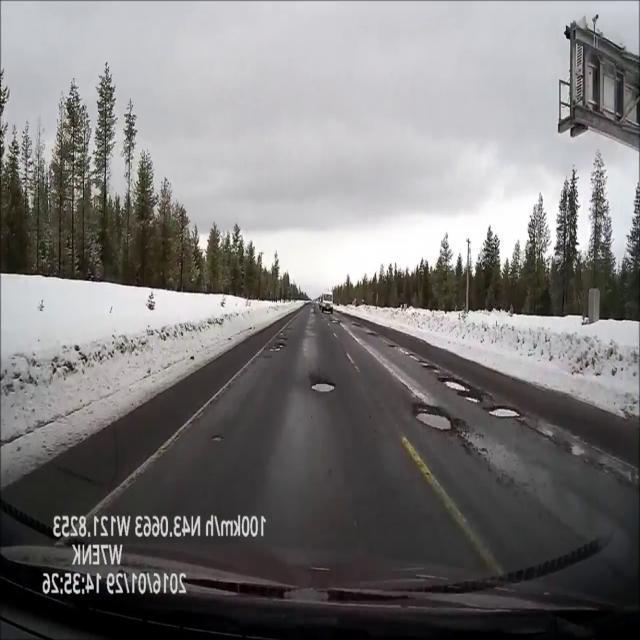pothole: (409, 398, 458, 437), (438, 376, 482, 406), (485, 404, 520, 420), (310, 381, 336, 394), (268, 337, 288, 352), (419, 360, 435, 371), (330, 318, 341, 325), (367, 331, 379, 337), (388, 344, 398, 349), (407, 354, 416, 357), (352, 323, 361, 326)
